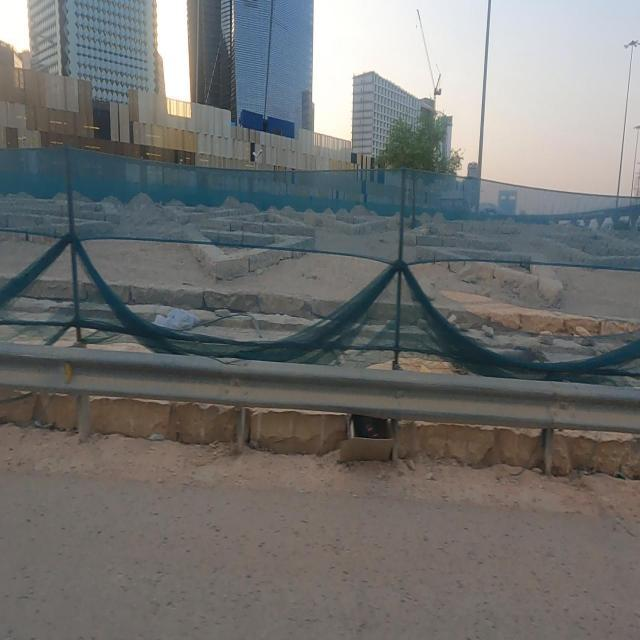debris: (293, 370, 428, 532), (112, 234, 236, 400)
